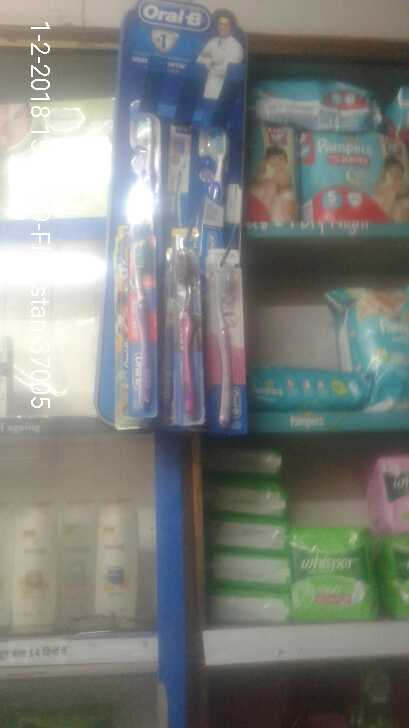pharmacy: (304, 131, 397, 224), (118, 226, 159, 424), (200, 261, 247, 426), (160, 243, 201, 427), (293, 522, 371, 617)
